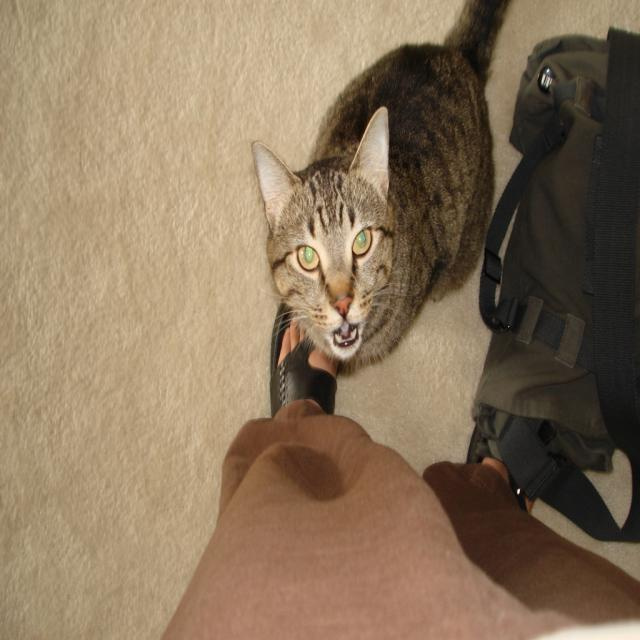left eye: (350, 224, 374, 258)
